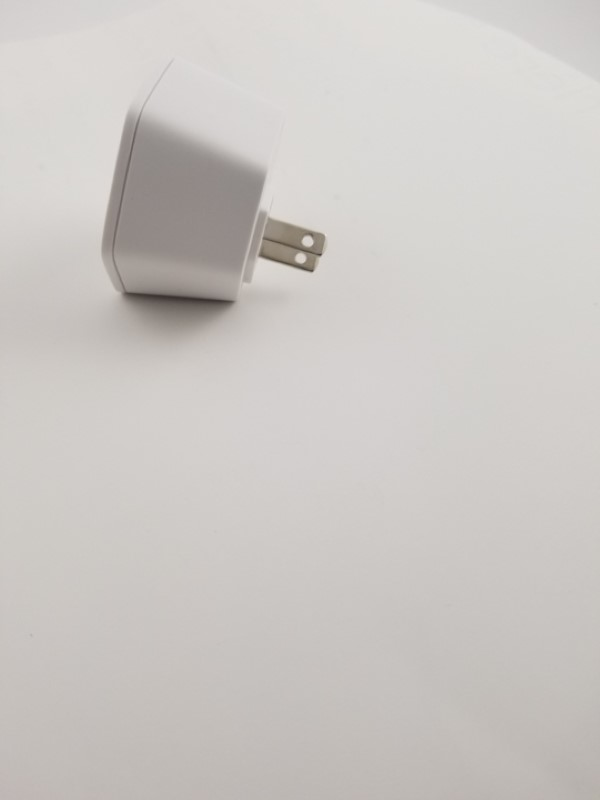pod: (96, 50, 331, 308)
